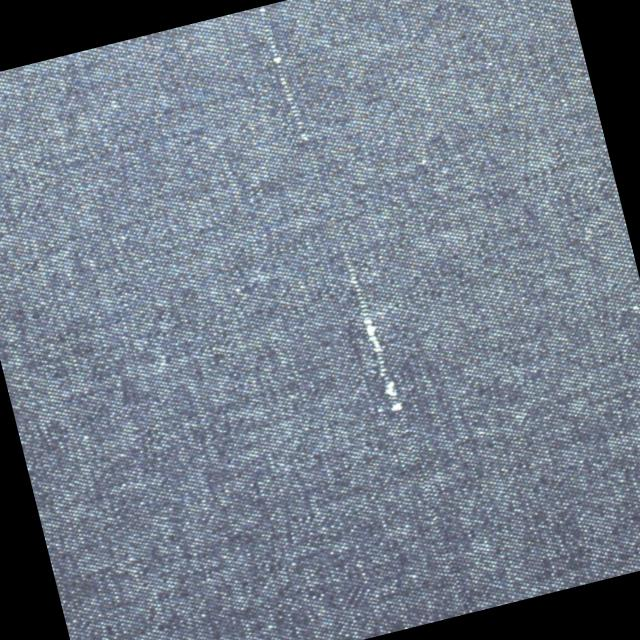Warp_Weft: (250, 0, 407, 427)
